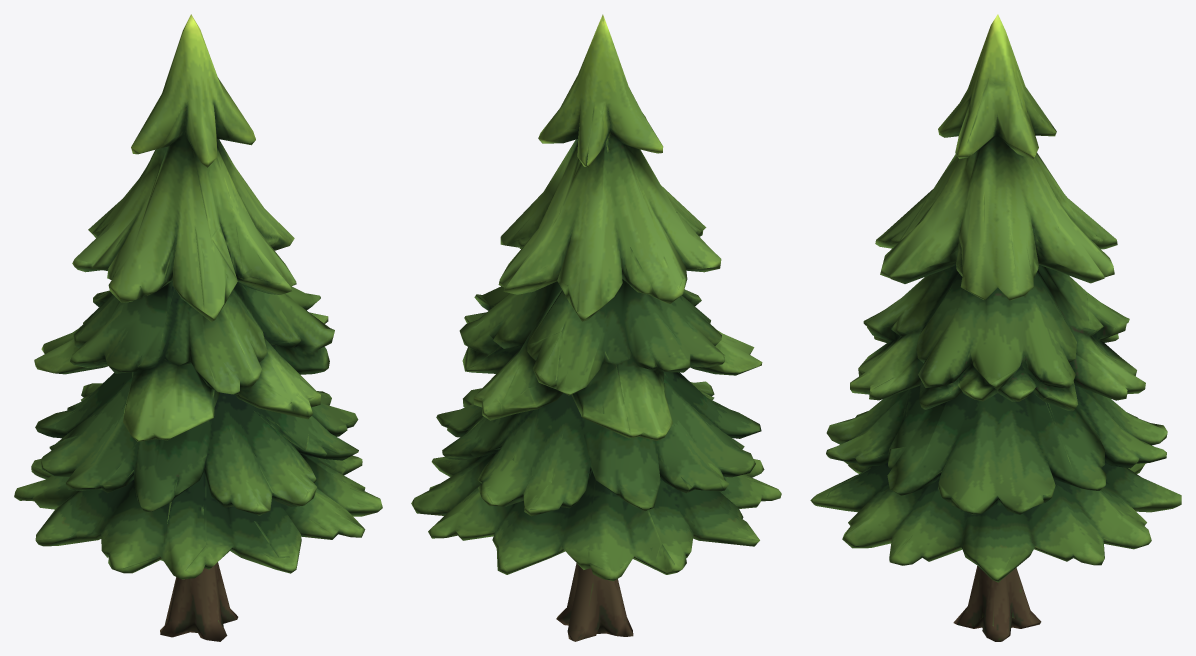
File: pine.glb
3 renders of one model, left to right at view 1: azimuth 30°, elevation 25°; view 2: azimuth 150°, elevation 25°; view 3: azimuth 270°, elevation 25°, orthographic.
Parts seen in each view (by area): view 1: Mesh1.0; view 2: Mesh1.0; view 3: Mesh1.0.
Part boxes in pixels (x1=…): Mesh1.0: x1=14, y1=14, x2=382, y2=641; Mesh1.0: x1=411, y1=14, x2=781, y2=641; Mesh1.0: x1=810, y1=14, x2=1181, y2=641.
Size of the model in its own units: 1.06 by 1.9 by 1.05.
Materials: 1 (1 with a texture image).
